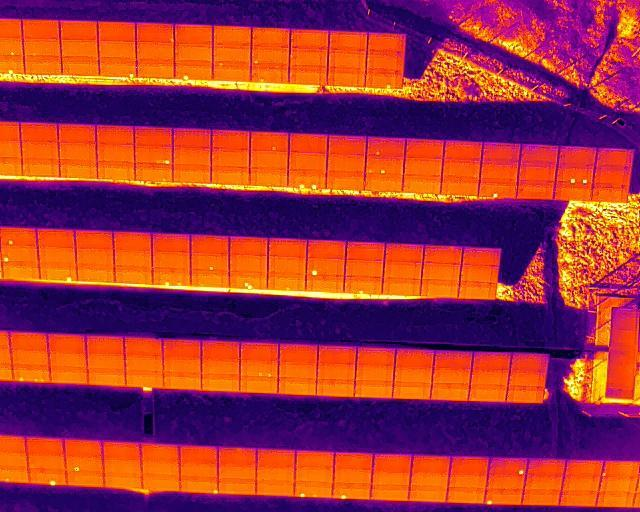Cell: (250, 131, 289, 151), (251, 64, 290, 84), (367, 138, 405, 157), (99, 60, 139, 78), (134, 146, 173, 164), (191, 253, 229, 271), (252, 47, 290, 65), (213, 63, 251, 81), (0, 246, 39, 263), (268, 274, 307, 291), (0, 229, 38, 246), (307, 258, 345, 275), (344, 277, 382, 294), (489, 458, 526, 475), (175, 64, 213, 80), (28, 470, 65, 486), (486, 489, 523, 505), (366, 72, 403, 88), (332, 484, 371, 499), (65, 457, 103, 472), (180, 478, 218, 493), (40, 264, 77, 279), (479, 183, 518, 197)
Cell-Multi: (365, 158, 405, 177), (241, 359, 279, 377), (12, 365, 50, 383), (556, 168, 595, 185), (230, 273, 269, 290), (287, 171, 326, 187), (294, 482, 333, 498), (153, 270, 191, 285)
No-Anomaly: (98, 39, 137, 61), (558, 148, 599, 168), (327, 154, 366, 175), (191, 234, 230, 255), (481, 143, 521, 163), (480, 163, 520, 183), (517, 166, 557, 186), (291, 29, 329, 50), (406, 141, 445, 161), (289, 152, 328, 172), (441, 161, 480, 181), (423, 262, 462, 282), (98, 22, 137, 42), (136, 42, 175, 62), (36, 229, 76, 248), (327, 51, 367, 70), (443, 142, 482, 161), (592, 168, 631, 187), (152, 233, 191, 252), (229, 237, 268, 256), (346, 242, 385, 261), (424, 244, 463, 263), (60, 21, 99, 40), (175, 26, 214, 45), (213, 27, 252, 46), (329, 31, 368, 50), (213, 45, 252, 64), (511, 353, 548, 373), (367, 52, 404, 72), (58, 125, 96, 144), (97, 144, 135, 163), (520, 146, 558, 165), (596, 150, 634, 169), (22, 20, 60, 39), (357, 347, 395, 366), (279, 378, 317, 397), (367, 33, 405, 52), (249, 151, 289, 169), (75, 230, 115, 248), (463, 246, 499, 266), (253, 28, 290, 47), (317, 380, 354, 399), (96, 126, 135, 144), (211, 131, 250, 149), (328, 137, 367, 155), (211, 149, 250, 167), (268, 239, 307, 257), (385, 244, 424, 262), (153, 252, 192, 270), (268, 257, 307, 275), (345, 259, 384, 277), (124, 337, 163, 355), (162, 339, 201, 357), (280, 345, 319, 363), (50, 366, 89, 384), (175, 45, 214, 63), (289, 65, 328, 83), (22, 141, 58, 160), (173, 147, 211, 165), (308, 240, 346, 258), (114, 249, 152, 267), (136, 23, 172, 42), (396, 348, 434, 366), (355, 381, 393, 399), (393, 383, 431, 401), (431, 383, 469, 401), (413, 456, 451, 474), (290, 50, 328, 68), (24, 56, 62, 74), (25, 437, 65, 454), (141, 444, 181, 461), (59, 143, 96, 161), (404, 160, 443, 177), (249, 169, 288, 186), (113, 232, 152, 249), (39, 248, 78, 265), (77, 248, 116, 265), (230, 255, 269, 272), (382, 278, 421, 295), (317, 363, 356, 380), (394, 366, 433, 383), (218, 448, 257, 465), (295, 451, 334, 468), (334, 453, 373, 470), (374, 454, 413, 471), (527, 459, 566, 476), (61, 40, 100, 57), (136, 61, 175, 78), (461, 264, 497, 282), (135, 129, 173, 146), (60, 161, 98, 178), (173, 165, 211, 182), (211, 166, 249, 183), (385, 262, 423, 279), (421, 280, 459, 297), (241, 343, 279, 360), (318, 346, 356, 363), (434, 351, 472, 368), (473, 352, 511, 369), (471, 369, 509, 386), (163, 373, 201, 390), (240, 377, 278, 394), (66, 440, 104, 457), (103, 442, 141, 459), (181, 446, 219, 463), (257, 449, 295, 466), (566, 460, 604, 477), (600, 477, 638, 494), (62, 58, 100, 75), (77, 266, 117, 282), (21, 124, 58, 141), (290, 135, 327, 152), (24, 40, 61, 57), (134, 164, 173, 180), (402, 177, 441, 193), (1, 263, 40, 279), (191, 271, 230, 287), (201, 342, 240, 358), (11, 349, 50, 365), (202, 359, 241, 375), (468, 386, 507, 402), (450, 457, 489, 473), (218, 464, 257, 480), (459, 282, 495, 299), (279, 362, 317, 378), (433, 368, 471, 384), (525, 474, 563, 490), (447, 488, 485, 504), (448, 474, 488, 489), (173, 131, 210, 147), (23, 160, 60, 176), (97, 163, 134, 179), (49, 335, 86, 351), (87, 338, 124, 354), (125, 355, 162, 371), (88, 369, 125, 385), (507, 388, 544, 404), (364, 177, 403, 192), (516, 185, 555, 200), (553, 186, 592, 201), (356, 365, 395, 380), (201, 375, 240, 390), (27, 454, 66, 469), (141, 461, 180, 476), (295, 467, 334, 482), (333, 469, 372, 484), (371, 471, 410, 486), (66, 472, 105, 487), (562, 476, 601, 491), (369, 486, 408, 501), (522, 489, 561, 504), (509, 372, 545, 388), (604, 461, 640, 477), (115, 268, 153, 283), (307, 276, 345, 291), (11, 334, 49, 349), (50, 351, 88, 366), (163, 357, 201, 372), (125, 371, 163, 386), (180, 463, 218, 478), (257, 465, 295, 480), (410, 473, 448, 488), (218, 480, 256, 495), (257, 481, 295, 496), (409, 488, 447, 503), (560, 491, 598, 506), (327, 71, 365, 86), (87, 354, 124, 369), (104, 459, 141, 474), (488, 474, 525, 489), (598, 492, 635, 507), (591, 187, 629, 201), (104, 473, 141, 487), (326, 176, 365, 189), (141, 476, 180, 489), (440, 182, 478, 195)
